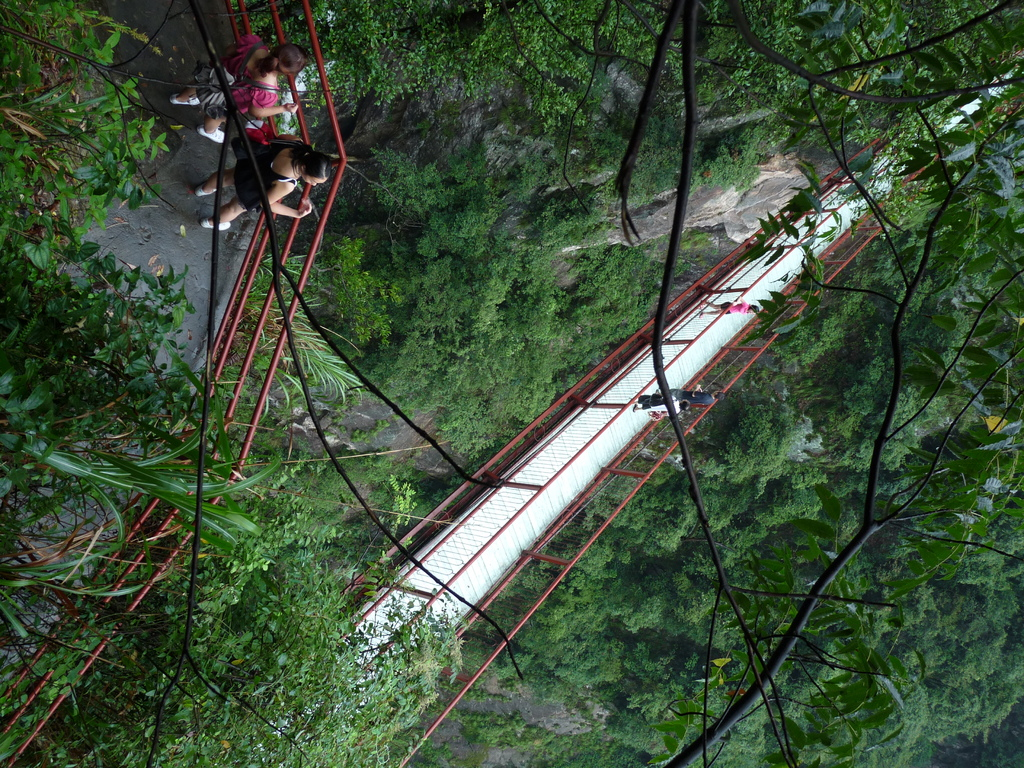person: (161, 45, 328, 230)
